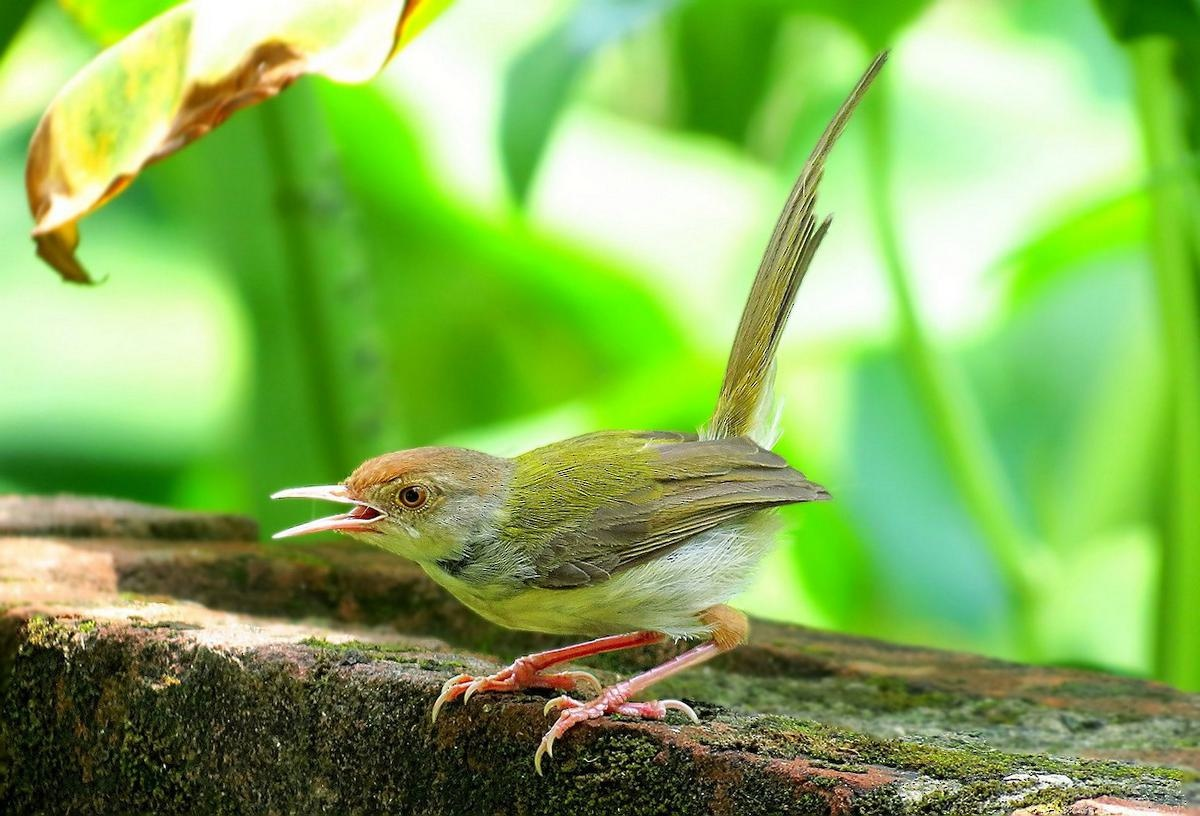tailorbird: (275, 85, 865, 741)
